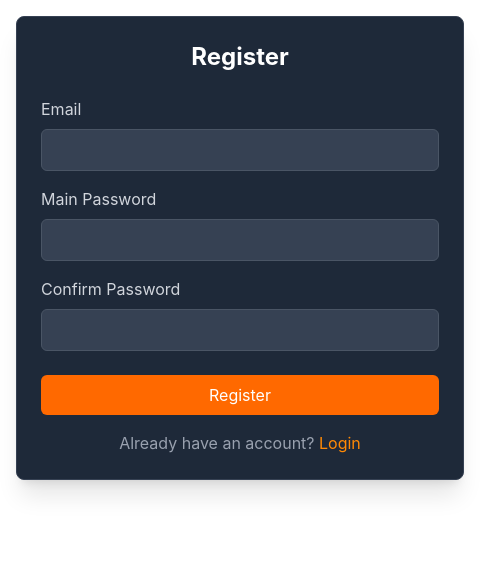
RegisterBox › shows error message on failed register
This screenshot has width=481, height=580.
Type "wrong@wrong.com" into the field labelled "Email" at (240, 150), box 41,129 -> 439,171
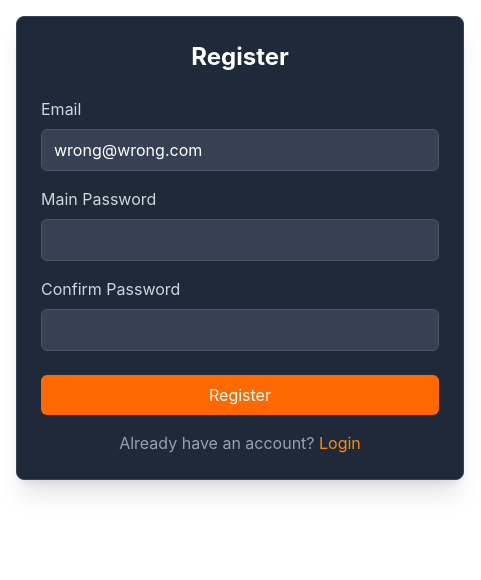
Type "Wr0ng!123" into the password field labelled "Main Password" at (240, 240), box 41,219 -> 439,261
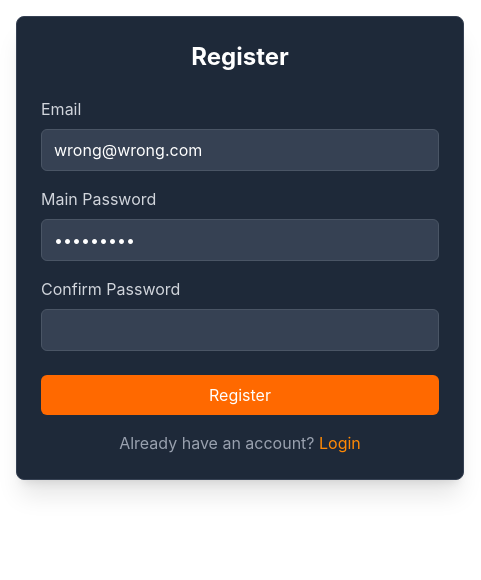
Type "Wr0ng!123" into the password field labelled "Confirm Password" at (240, 330), box 41,309 -> 439,351
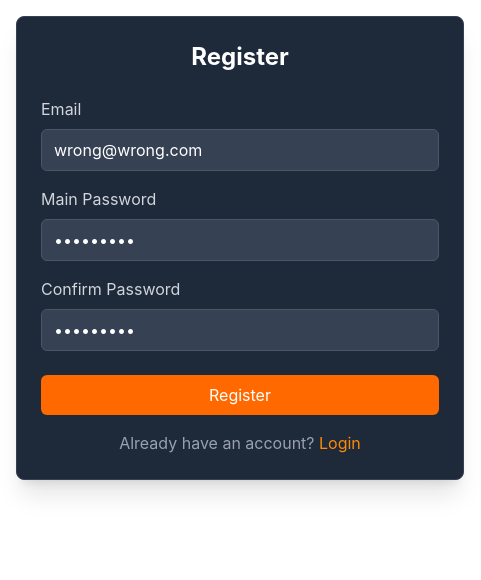
Click the button "Register" at (240, 395), box 41,375 -> 439,415
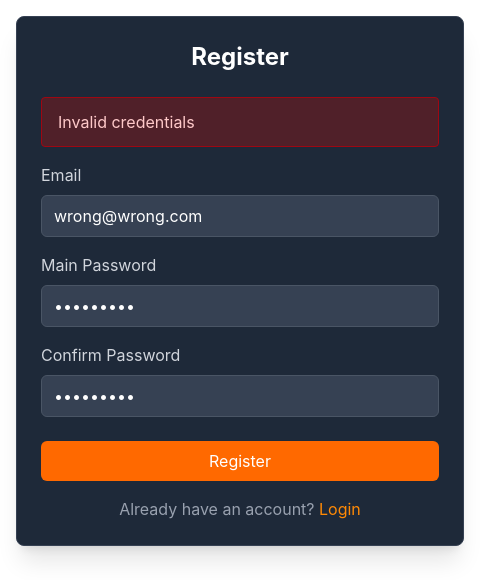
Expected: the text "Invalid credentials" is shown, 41,97 -> 439,147
